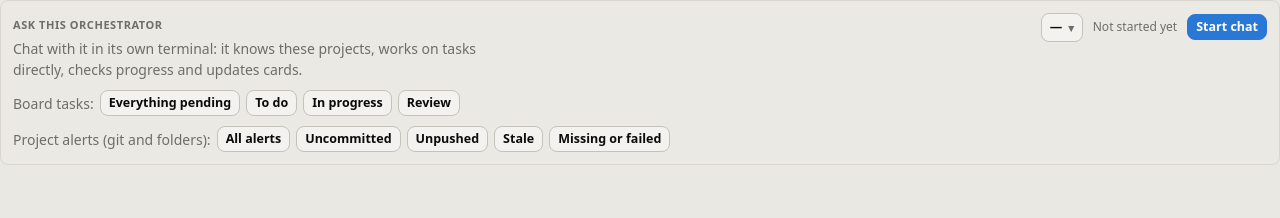
Test case: quick-processes one kind of dashboard alert (PM-184)
Click the button "Unpushed".
click(447, 139)  # box [406,126,488,152]
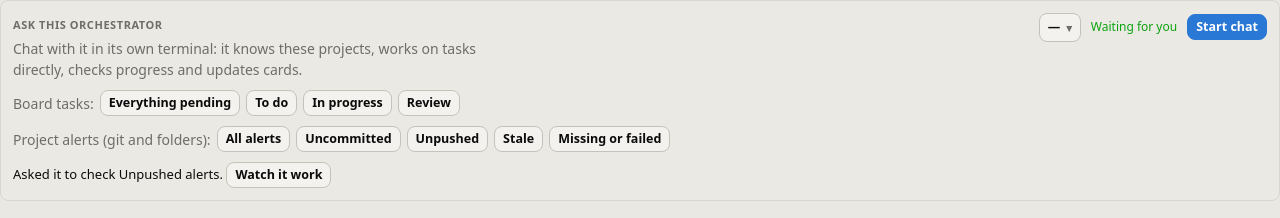
Result: the message "Asked it to check Unpushed alerts. Watch it work" is shown at [13,162,332,188]
